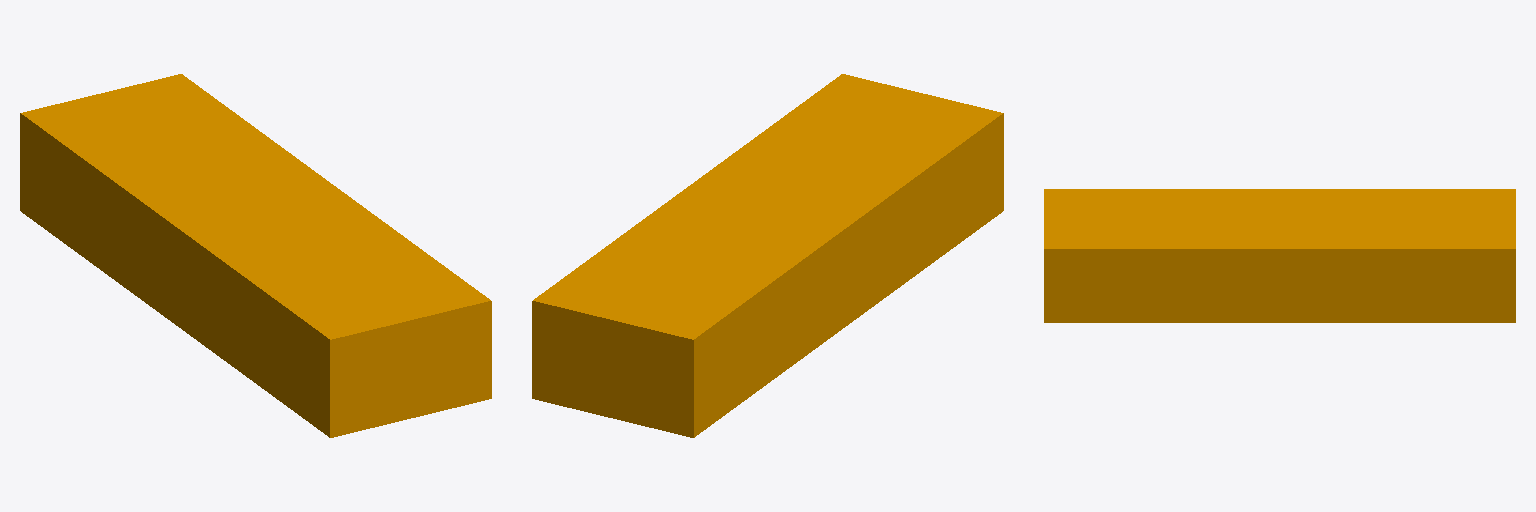
The robot description file, URDF, robot "escalon":
<robot name="escalon" version="1.0">
  <link name="mi_diseño-escalon_link">
    <collision name="mi_diseño-escalon_collision">
      <origin rpy="0.00000 0.00000 0.00000" xyz="0.00000 0.00000 0.00000"/>
      <geometry>
        <mesh filename="../meshes/stl/mi_diseño-escalon.stl" scale="0.00100 0.00100 0.00100"/>
      </geometry>
    </collision>
    <visual name="mi_diseño-escalon">
      <material name="None"/>
      <origin rpy="0.00000 0.00000 0.00000" xyz="0.00000 0.00000 0.00000"/>
      <geometry>
        <mesh filename="../meshes/stl/mi_diseño-escalon.stl" scale="0.00100 0.00100 0.00100"/>
      </geometry>
    </visual>
  </link>
</robot>

--- Render facts (derived) ---
3 views of the same robot in one strip: view 1: azimuth 30°, elevation 25°; view 2: azimuth 150°, elevation 25°; view 3: azimuth 270°, elevation 25° (orthographic).
Model escalon with 1 links and 0 joints (none), rooted at mi_diseño-escalon_link, posed all joints at 0.
Visible links, largest first — view 1: mi_diseño-escalon_link; view 2: mi_diseño-escalon_link; view 3: mi_diseño-escalon_link.
Link boxes in pixels (x1,y1,x2,y2): mi_diseño-escalon_link: (20, 74, 491, 437); mi_diseño-escalon_link: (532, 74, 1003, 437); mi_diseño-escalon_link: (1044, 189, 1515, 322).
Bounding box of the posed robot: 0.3 × 1 × 0.175 m (x, y, z).
Meshes: 1 distinct files referenced, 1 mesh visuals loaded (1 binary STL).
